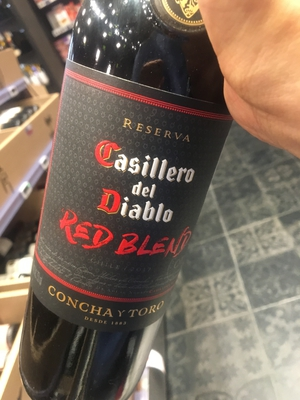casillero del diablo red blend: (35, 19, 229, 400)
